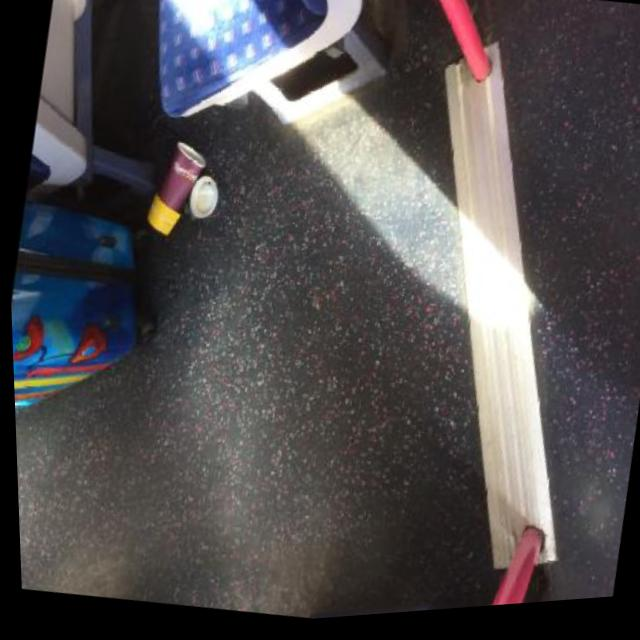cardboard: (139, 134, 211, 242)
plastic: (183, 172, 220, 221)
